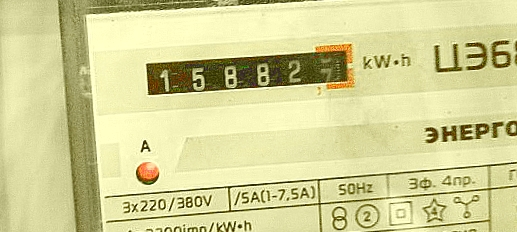1: (158, 64, 172, 93)
2: (285, 57, 303, 84)
5: (189, 64, 208, 95)
7: (318, 64, 332, 82)
8: (221, 62, 238, 91), (254, 59, 271, 88)
screen: (133, 34, 362, 108)
